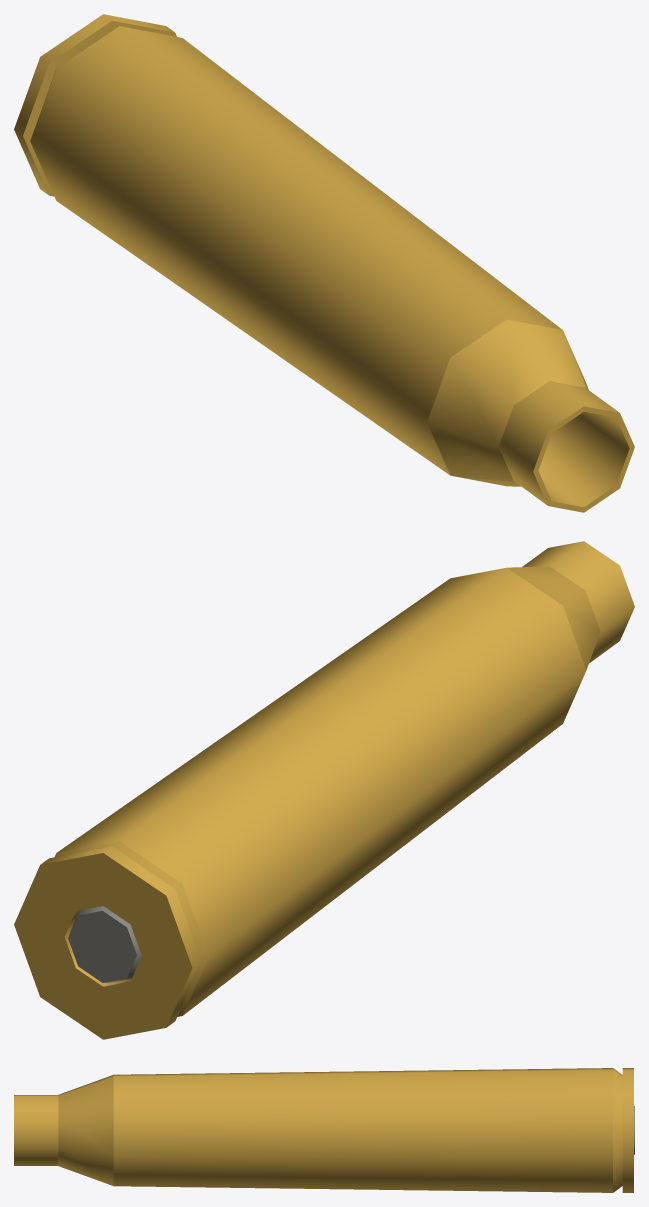
The model's file is Empty556.FBX.
3 renders of one model, top to bottom at view 1: azimuth 30°, elevation 25°; view 2: azimuth 150°, elevation 25°; view 3: azimuth 270°, elevation 25°, orthographic. The views are drawn at different scales.
Visible parts, largest first — view 1: Empty556; view 2: Empty556; view 3: Empty556.
Boxes of the visible parts, <box> form: Empty556: <box>14,14,634,512</box>; Empty556: <box>14,541,634,1039</box>; Empty556: <box>14,1068,634,1192</box>.
Size of the model in its own units: 1.2 by 1.2 by 5.6.
